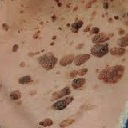Actinic: (65, 17, 128, 85), (50, 81, 76, 111), (10, 74, 33, 100), (39, 50, 60, 74)
